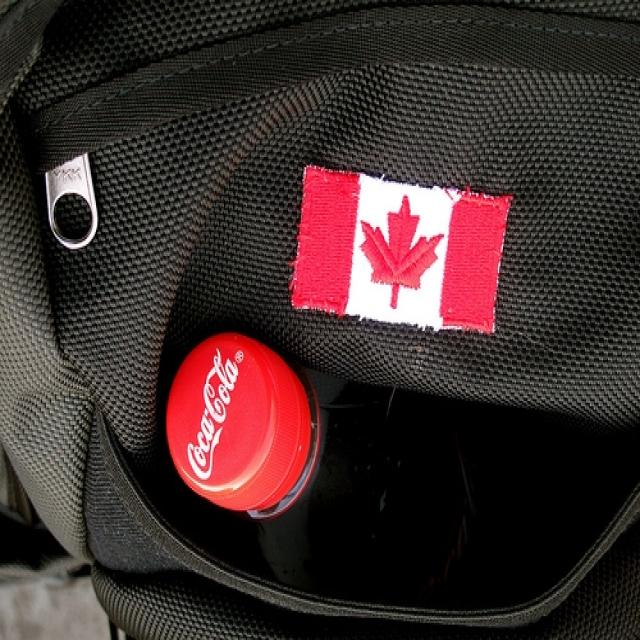cocacola: (186, 344, 246, 486)
